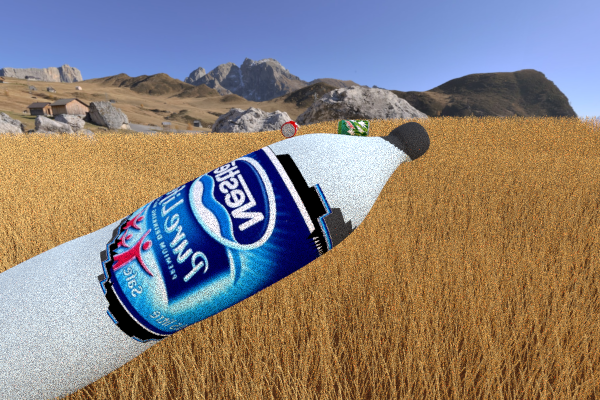bottle: (0, 121, 429, 400)
can: (337, 120, 369, 137), (280, 120, 297, 138)
